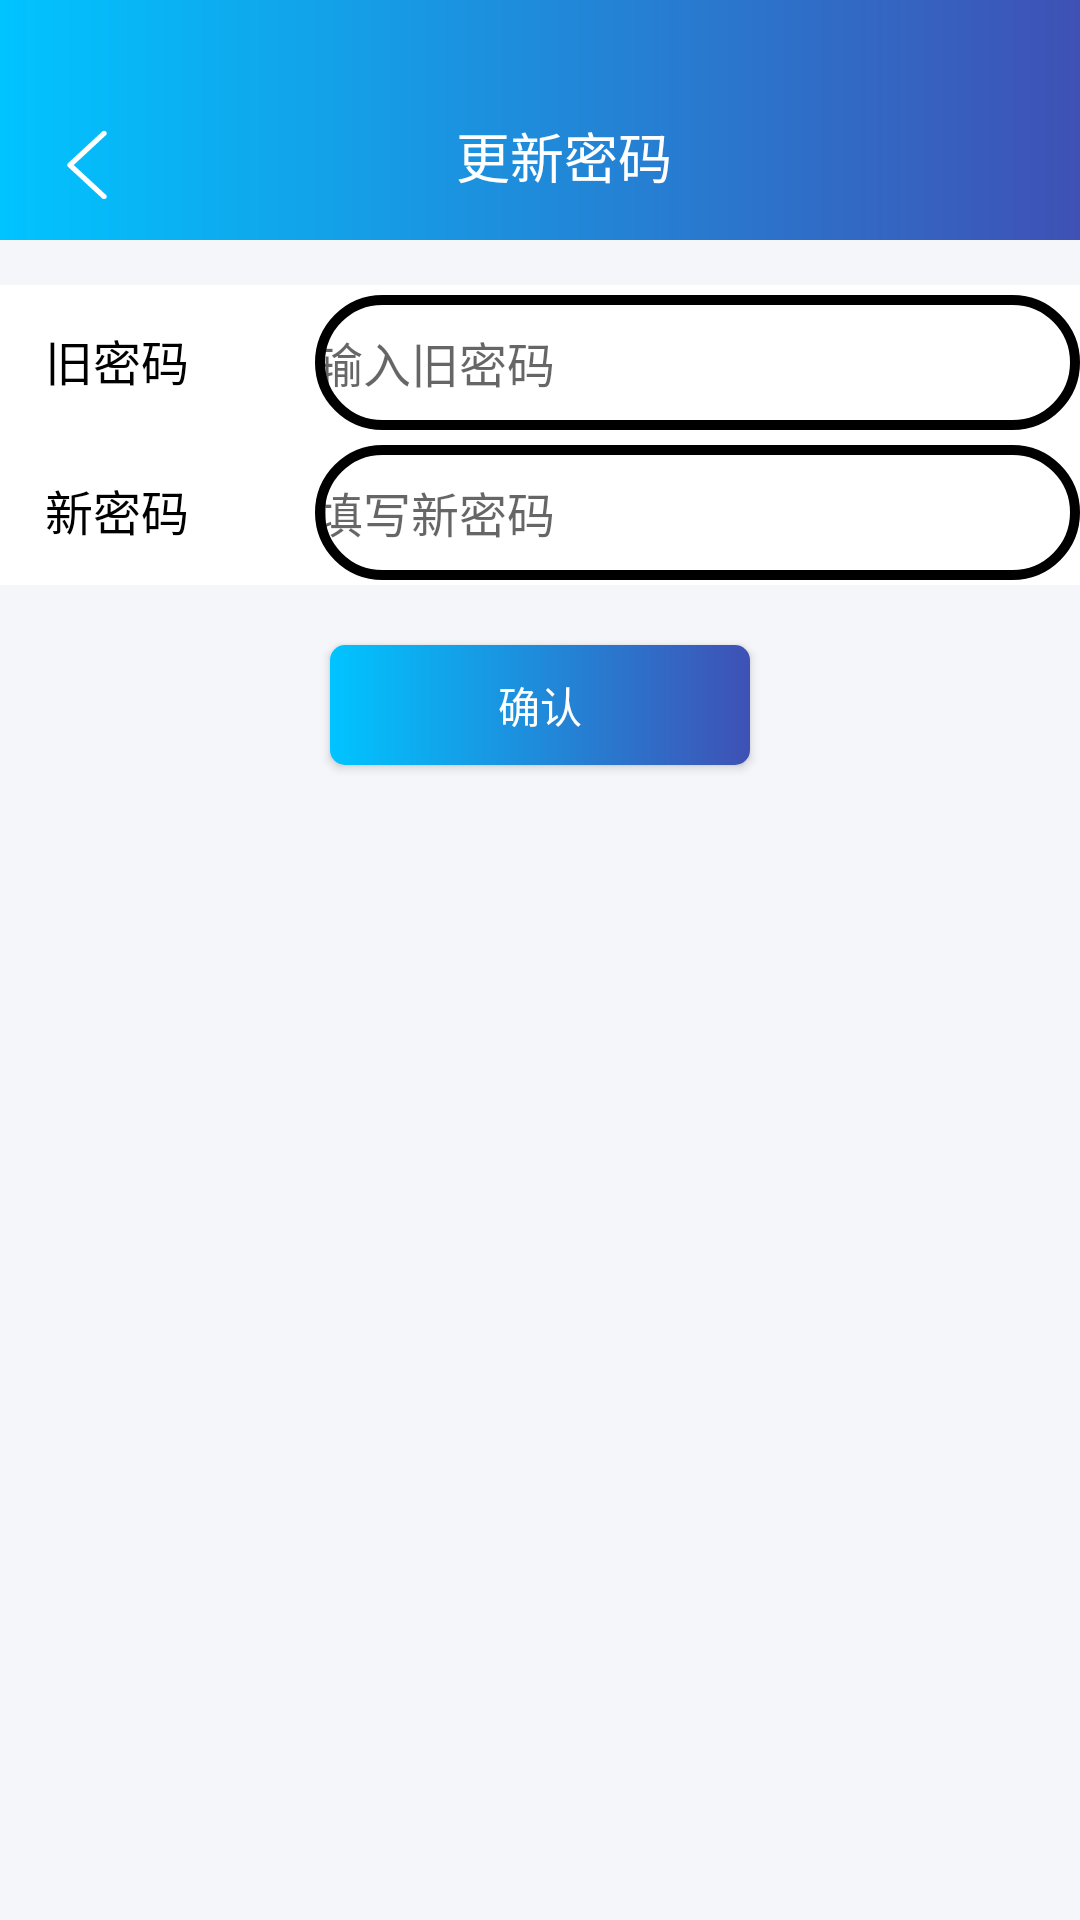

Icons on this 1080 × 1920 Android screen, each with the point to tap as (x,y):
back: (87,164)
